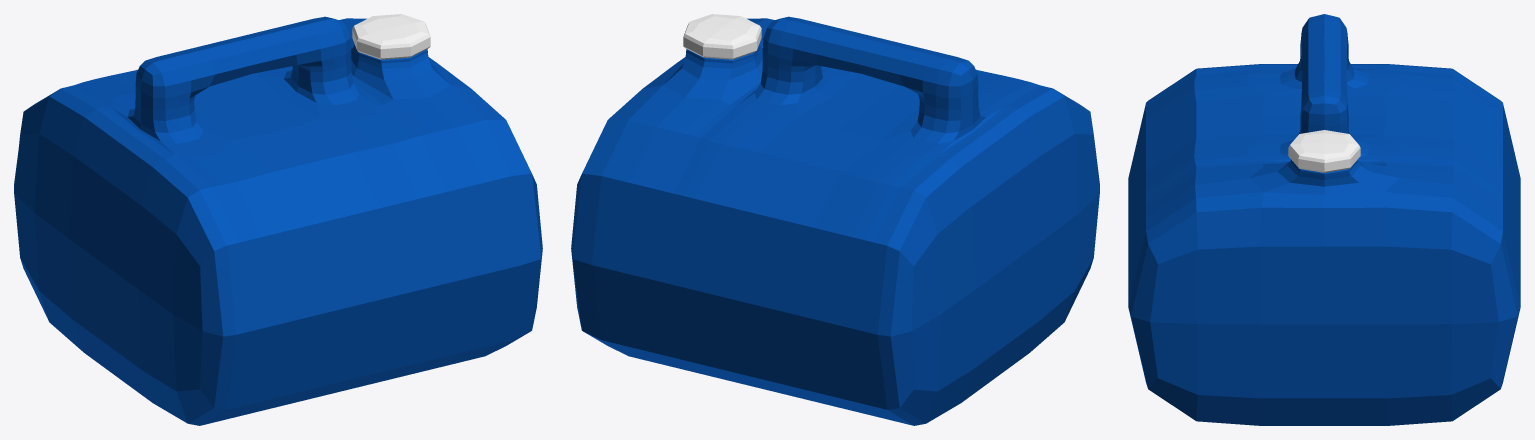
Rendered from blueJerrycan.fbx.
3 views of the same model, side by side, from view 1: azimuth 30°, elevation 25°; view 2: azimuth 150°, elevation 25°; view 3: azimuth 270°, elevation 25° (orthographic). The views are drawn at different scales.
Visible parts, largest first — view 1: blueJerrycan; view 2: blueJerrycan; view 3: blueJerrycan.
Part boxes in pixels (box(x1,y1,x2,y2)): blueJerrycan: box(14, 14, 542, 425); blueJerrycan: box(571, 14, 1099, 425); blueJerrycan: box(1128, 14, 1520, 425).
Bounding box in the file's own units: 29.43 × 25.09 × 30.85.
